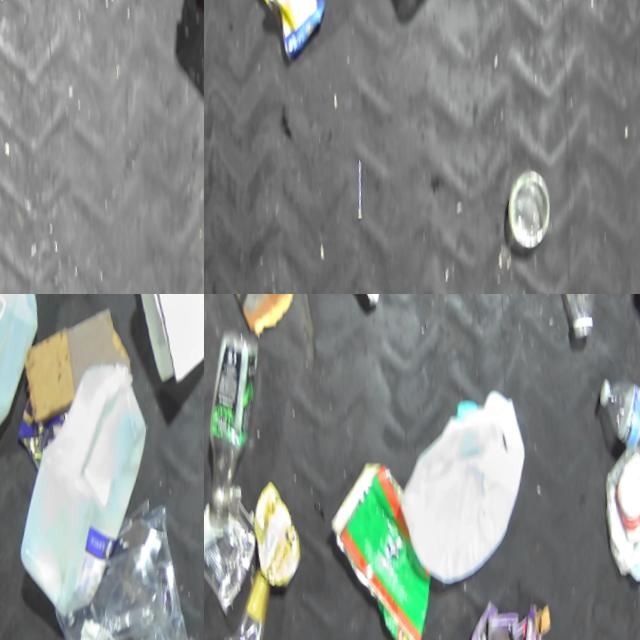can: (204, 482, 279, 620), (252, 477, 322, 596), (260, 0, 339, 61), (508, 165, 566, 248)
milk_jug: (0, 358, 177, 618), (391, 382, 555, 592), (0, 294, 62, 461)
plastic_bottle: (204, 320, 287, 524), (594, 362, 640, 487), (542, 294, 617, 346)
